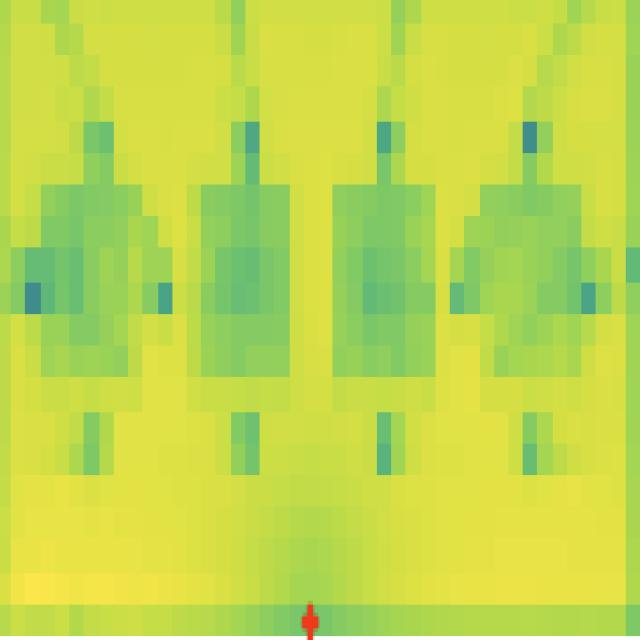Concrete: (461, 167, 586, 396)
Glass: (326, 158, 442, 416)
Metal: (30, 143, 141, 407)
Wood: (183, 170, 299, 409)
